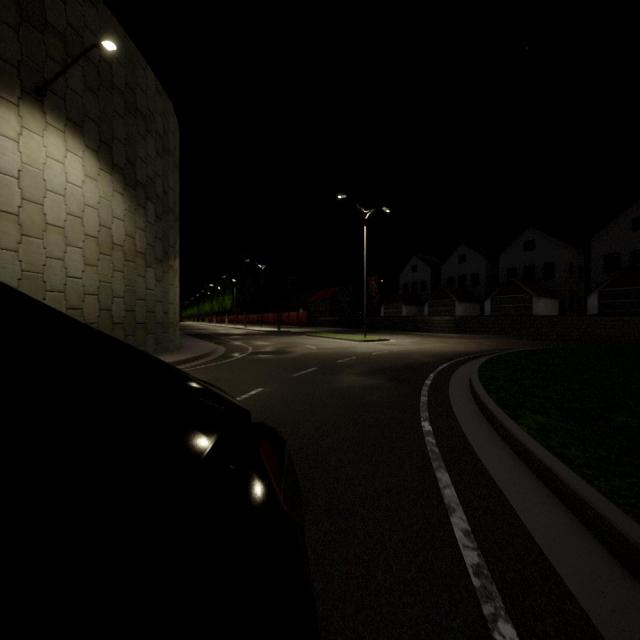Vehicle: (0, 286, 317, 638)
